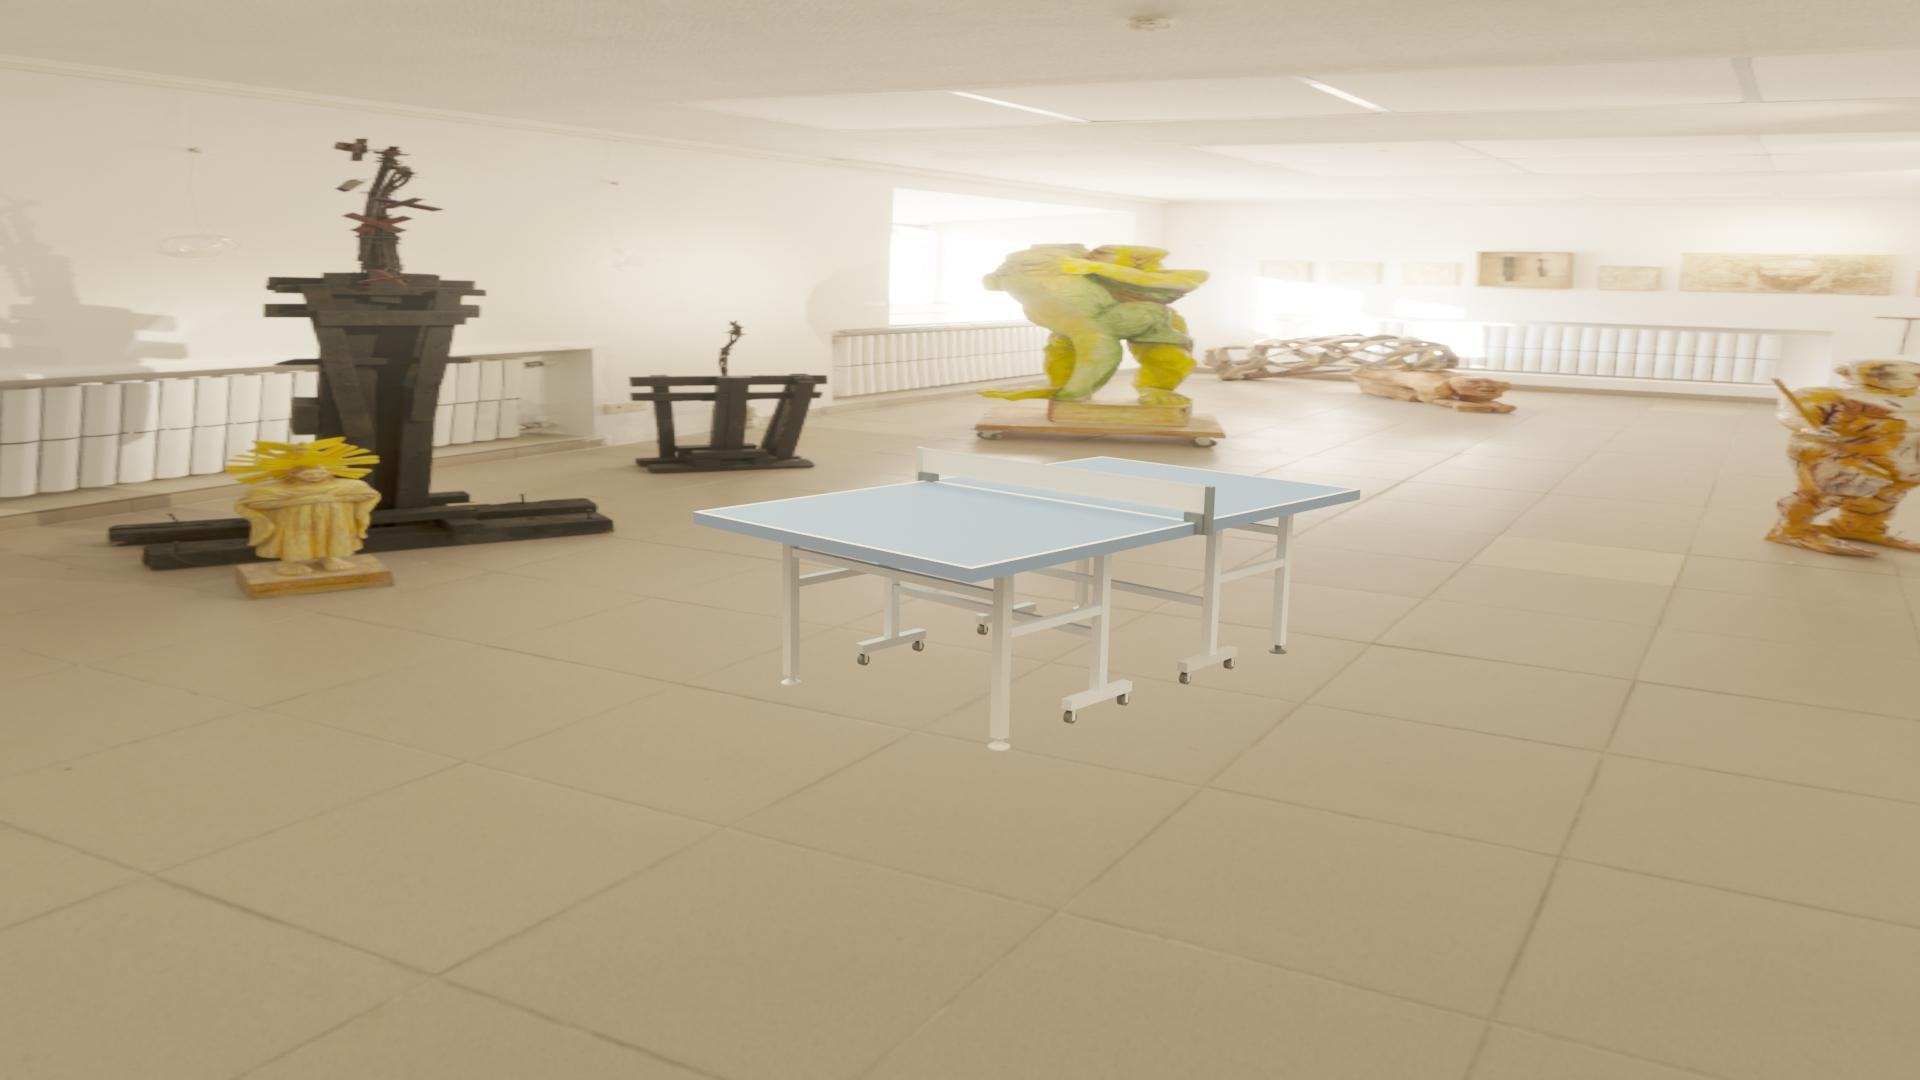table: (700, 458, 1354, 567)
